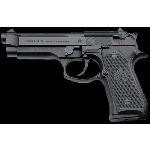Pistol: (1, 26, 148, 120)
